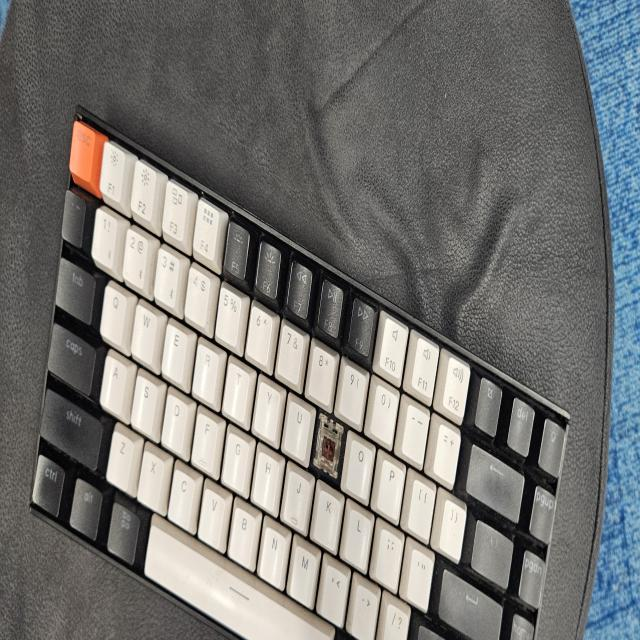C: (320, 423, 339, 480)
